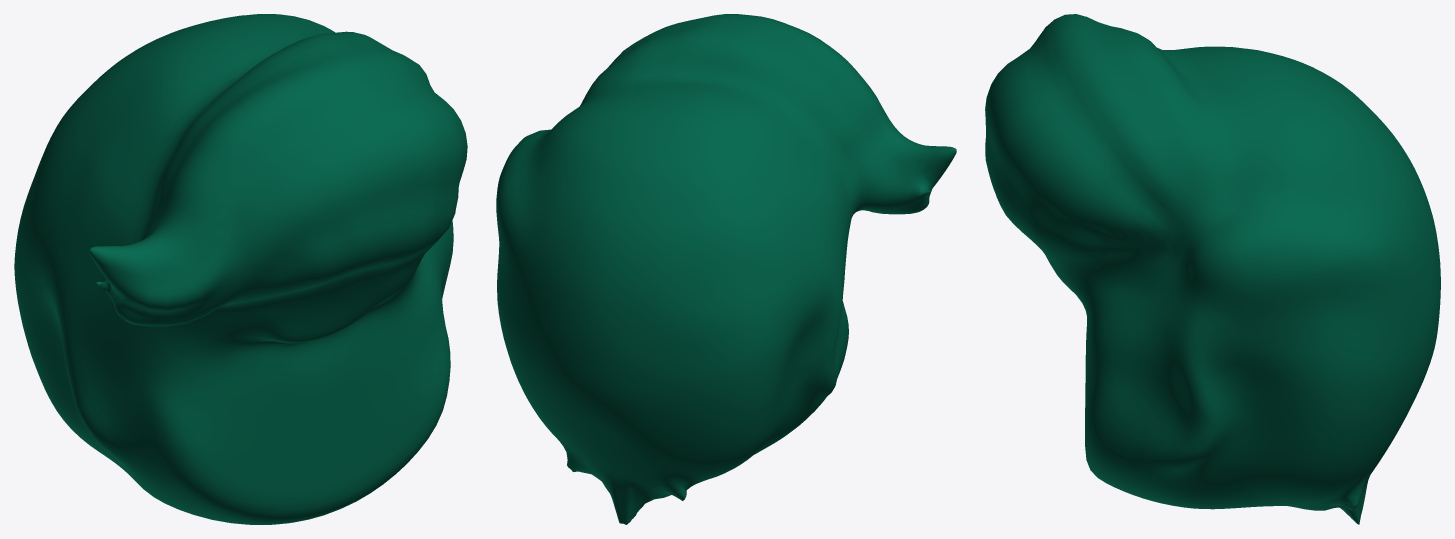
File: Hair_Base_RichBoy_018.fbx
3 renders of one model, left to right at view 1: azimuth 30°, elevation 25°; view 2: azimuth 150°, elevation 25°; view 3: azimuth 270°, elevation 25°, orthographic. The views are drawn at different scales.
Visible parts, largest first — view 1: Hair_Base_18RichBoy_018; view 2: Hair_Base_18RichBoy_018; view 3: Hair_Base_18RichBoy_018.
Boxes of the visible parts, x1,y1,x2,y2 form: Hair_Base_18RichBoy_018: (14, 14, 467, 524); Hair_Base_18RichBoy_018: (496, 14, 956, 524); Hair_Base_18RichBoy_018: (985, 14, 1440, 524).
Size of the model in its own units: 178 by 200 by 170.
